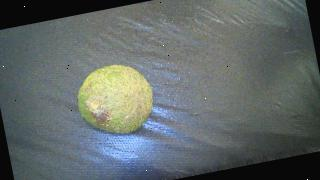DESECHO: (67, 50, 165, 146)
